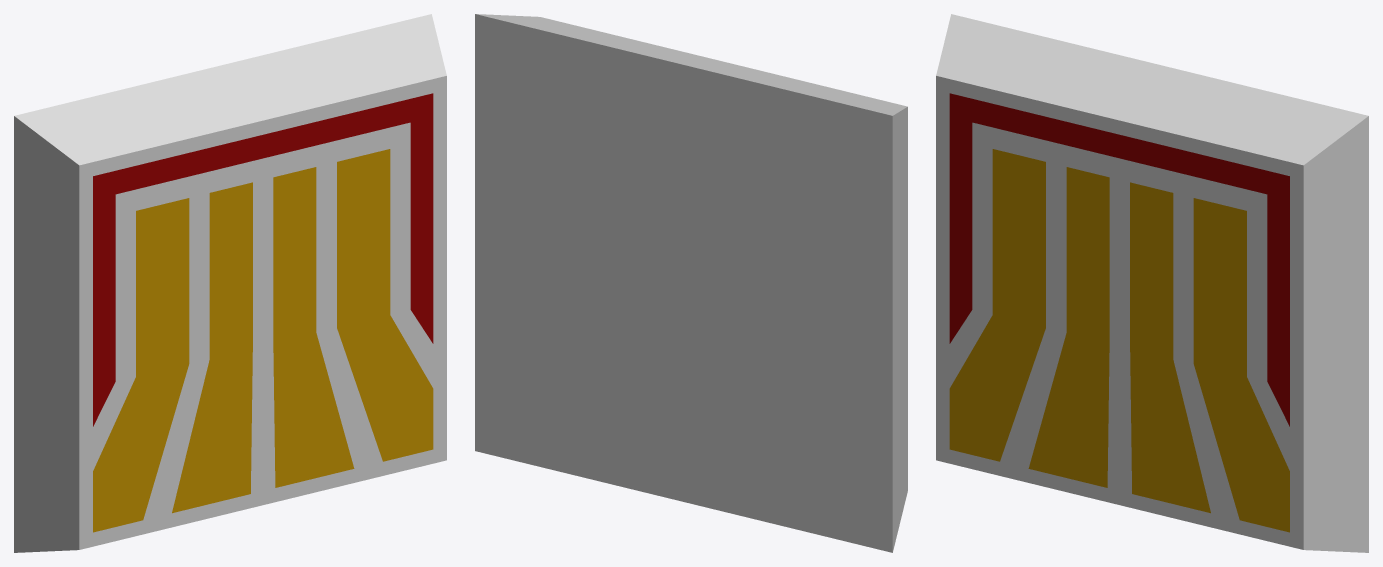
File: SciFi_Modular_Semiotic_Exhaust_01.fbx
The picture shows the model from 3 angles, left to right: view 1: azimuth 30°, elevation 25°; view 2: azimuth 150°, elevation 25°; view 3: azimuth 330°, elevation 25°; orthographic projection.
Visible parts, largest first — view 1: SciFi_Modular_Semiotic_Exhaust_01; view 2: SciFi_Modular_Semiotic_Exhaust_01; view 3: SciFi_Modular_Semiotic_Exhaust_01.
Part boxes in pixels (x1,y1,x2,y2): SciFi_Modular_Semiotic_Exhaust_01: (14, 14, 446, 552); SciFi_Modular_Semiotic_Exhaust_01: (475, 14, 907, 552); SciFi_Modular_Semiotic_Exhaust_01: (936, 14, 1368, 552).
Bounding box in the file's own units: 21.12 × 21.12 × 3.52.
